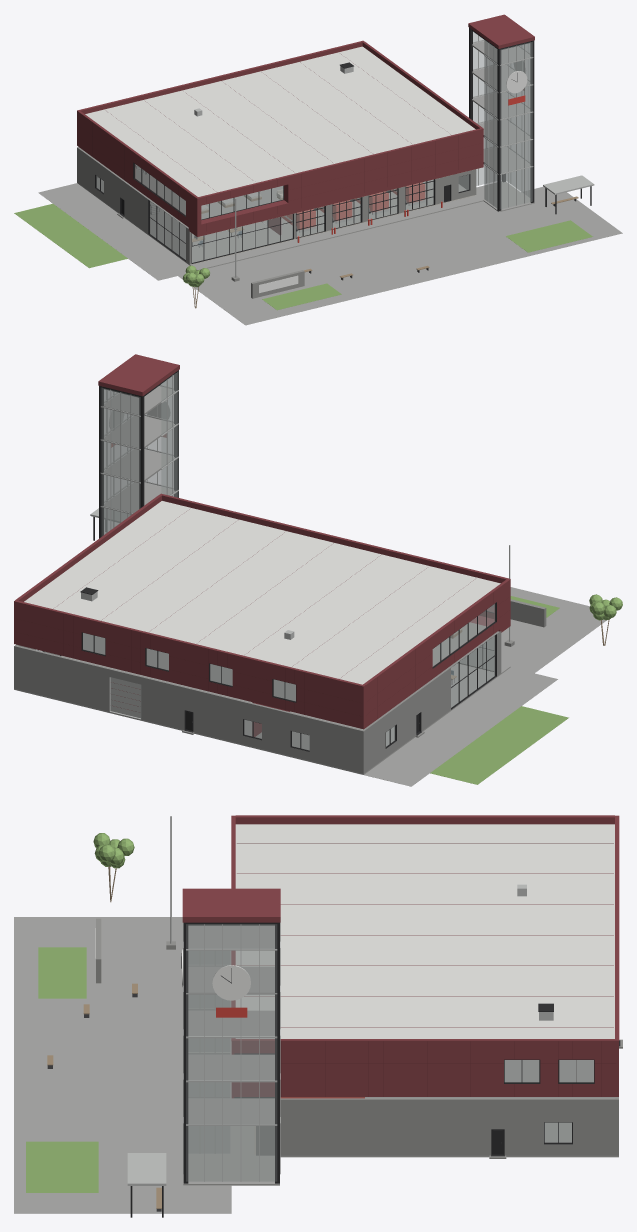
Rendered from clay-cantilever-fire-station-clay-v002.glb.
3 renders of one model, top to bottom at view 1: azimuth 30°, elevation 25°; view 2: azimuth 150°, elevation 25°; view 3: azimuth 270°, elevation 25°, orthographic. The views are drawn at different scales.
Visible parts, largest first — view 1: CLAY_FOUNDATION, CLAY_ROOF, CLAY_WALL, CLAY_GLASS, CLAY_PLANTING, CLAY_TRIM, CLAY_FLOOR, CLAY_STONE, CLAY_PALE, CLAY_RED, CLAY_WHITE, CLAY_TIMBER (+1 smaller); view 2: CLAY_ROOF, CLAY_WALL, CLAY_STONE, CLAY_FOUNDATION, CLAY_GLASS, CLAY_FLOOR, CLAY_PLANTING, CLAY_TRIM, CLAY_PALE, CLAY_JOINT; view 3: CLAY_ROOF, CLAY_FOUNDATION, CLAY_WALL, CLAY_GLASS, CLAY_STONE, CLAY_FLOOR, CLAY_PLANTING, CLAY_PALE, CLAY_TRIM, CLAY_JOINT, CLAY_WHITE.
Boxes of the visible parts, box(x1,y1,x2,y2) form: CLAY_FOUNDATION: box(38, 170, 622, 325); CLAY_ROOF: box(85, 46, 475, 196); CLAY_WALL: box(77, 14, 534, 236); CLAY_GLASS: box(96, 32, 532, 262); CLAY_PLANTING: box(14, 203, 592, 310); CLAY_TRIM: box(95, 27, 591, 263); CLAY_FLOOR: box(135, 40, 530, 219); CLAY_STONE: box(77, 147, 476, 298); CLAY_PALE: box(136, 35, 594, 277); CLAY_RED: box(281, 89, 525, 242); CLAY_WHITE: box(259, 61, 527, 293); CLAY_TIMBER: box(192, 195, 578, 308); CLAY_ROOF: box(24, 501, 500, 684); CLAY_WALL: box(14, 354, 510, 736); CLAY_STONE: box(14, 599, 546, 773); CLAY_FOUNDATION: box(14, 587, 616, 786); CLAY_GLASS: box(36, 372, 494, 750); CLAY_FLOOR: box(83, 386, 485, 701); CLAY_PLANTING: box(430, 594, 622, 784); CLAY_TRIM: box(38, 370, 496, 751); CLAY_PALE: box(81, 375, 510, 719); CLAY_JOINT: box(17, 509, 493, 719); CLAY_ROOF: box(235, 824, 614, 1038); CLAY_FOUNDATION: box(14, 917, 618, 1213); CLAY_WALL: box(182, 815, 619, 1098); CLAY_GLASS: box(186, 924, 593, 1181); CLAY_STONE: box(96, 918, 622, 1158); CLAY_FLOOR: box(188, 925, 614, 1124); CLAY_PLANTING: box(26, 833, 134, 1192); CLAY_PALE: box(127, 816, 553, 1185); CLAY_TRIM: box(130, 922, 620, 1217); CLAY_JOINT: box(237, 843, 615, 1096); CLAY_WHITE: box(95, 928, 250, 1000).
Size of the model in its own units: 68 by 24.5 by 50.34.
